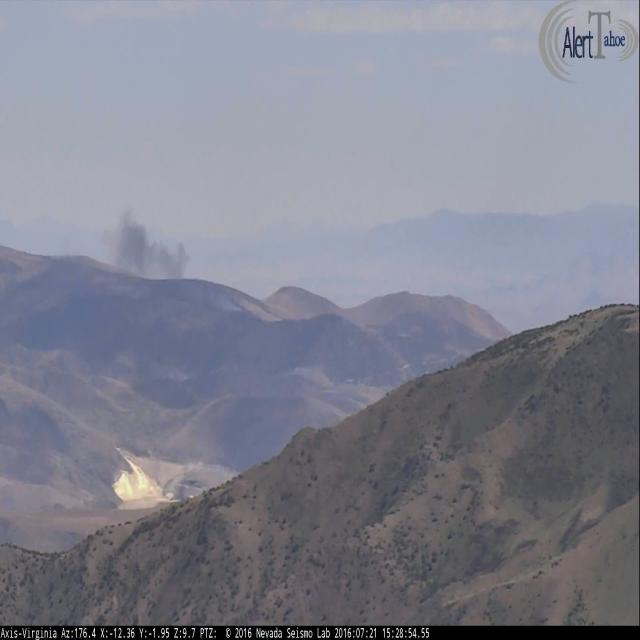smoke: (115, 215, 242, 316)
